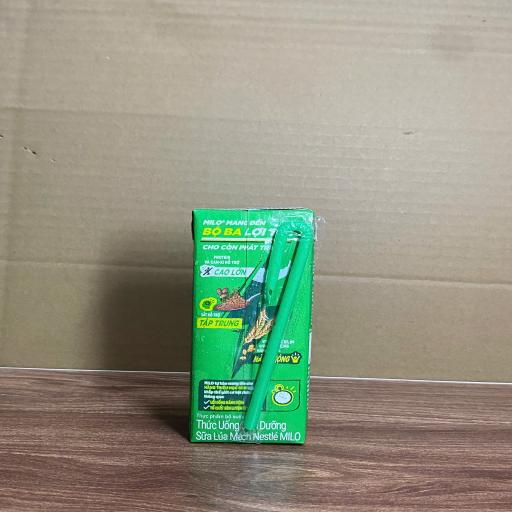milo: (192, 208, 313, 442)
